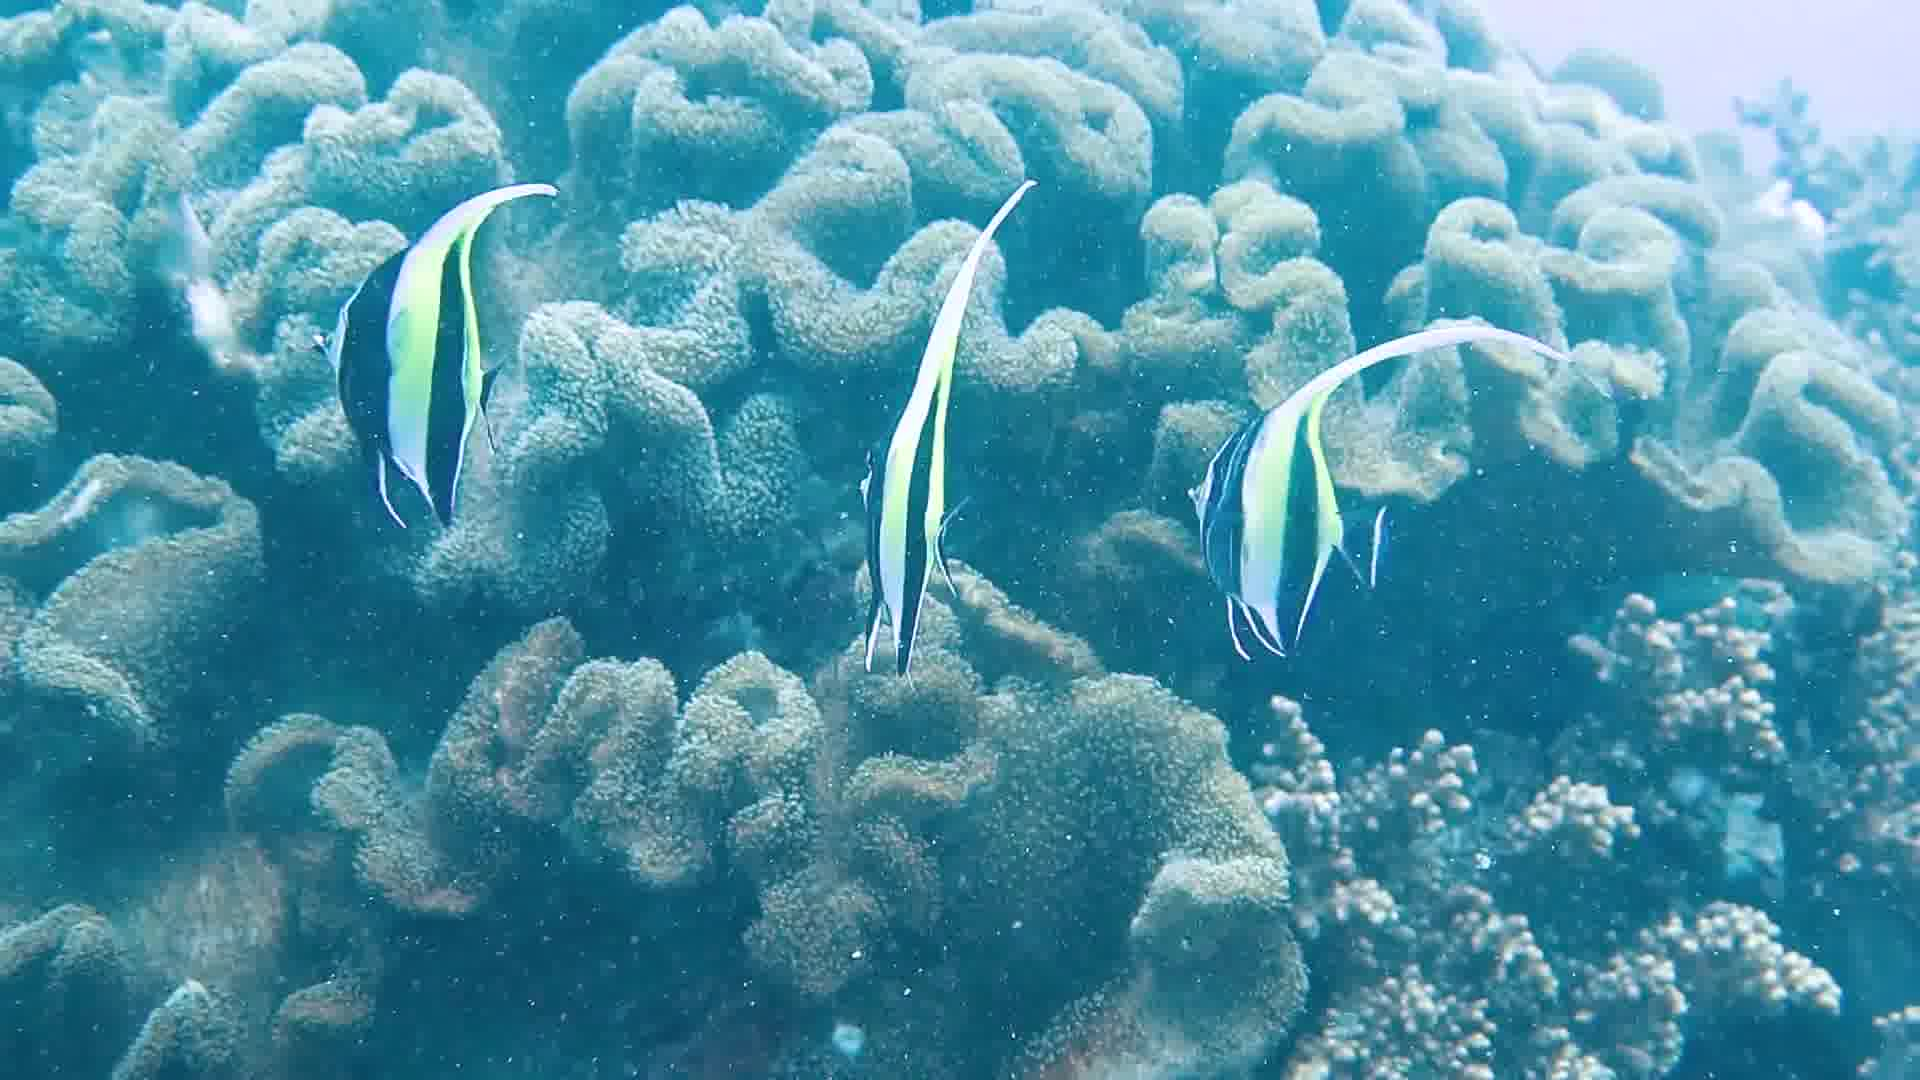Zanclus cornutus: (289, 199, 539, 529), (790, 345, 1040, 675), (1156, 342, 1407, 671)
